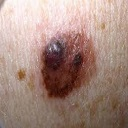Melanoma: (38, 31, 90, 96)
